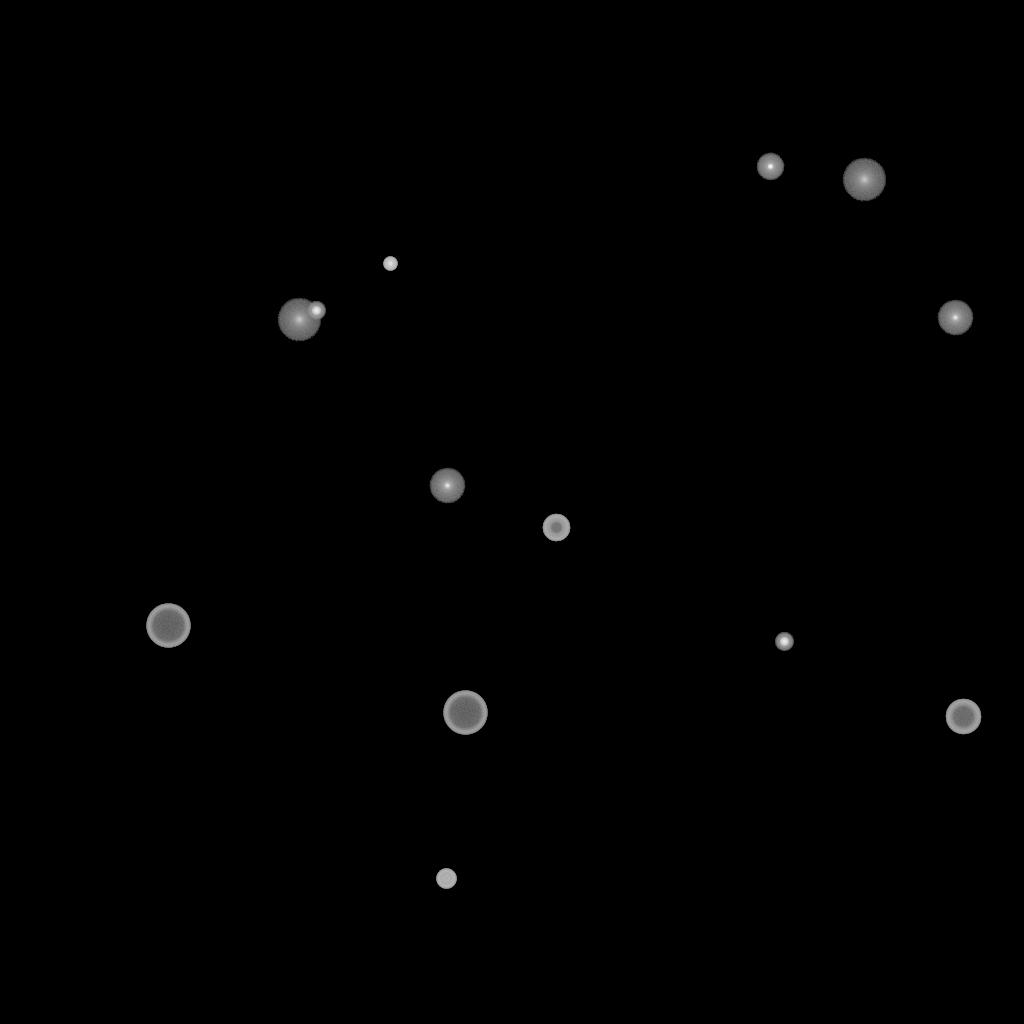depth:-10: (756, 153, 784, 181)
depth:-20: (307, 302, 325, 320), (775, 633, 793, 651)
depth:-30: (383, 257, 397, 271)
depth:-40: (436, 869, 456, 889)
depth:-50: (542, 514, 570, 542)
depth:-60: (945, 699, 981, 735)
depth:-70: (443, 691, 487, 735), (146, 604, 190, 648)
depth:0: (937, 300, 973, 336), (429, 468, 465, 504)
depth:10: (842, 158, 886, 202), (277, 298, 321, 342)
